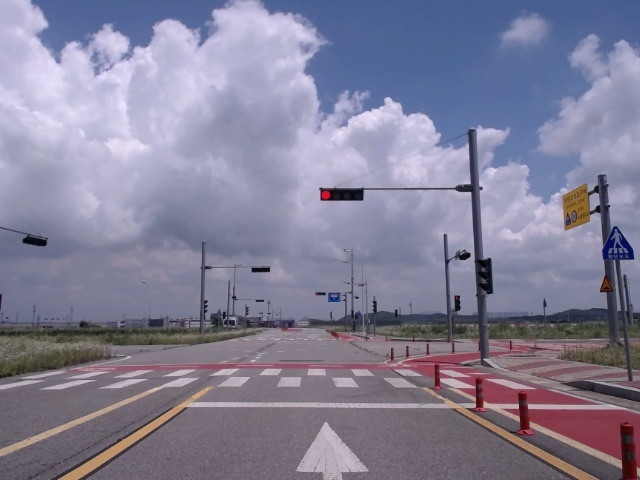red_4: (320, 188, 364, 201)
